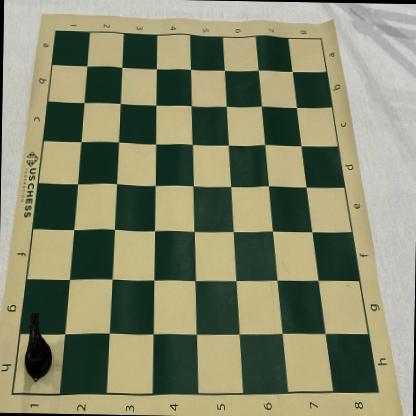knight: (23, 312, 52, 378)
